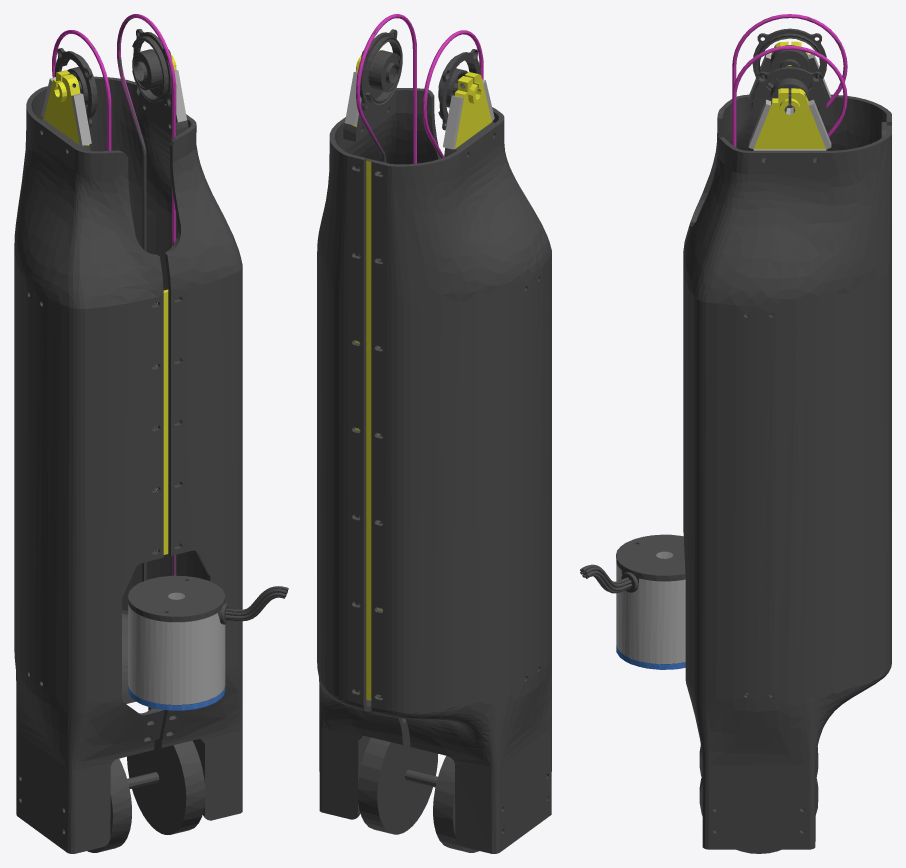
File: color_thigh_L.dae
3 renders of one model, left to right at view 1: azimuth 30°, elevation 25°; view 2: azimuth 150°, elevation 25°; view 3: azimuth 270°, elevation 25°, orthographic. The views are drawn at different scales.
Parts seen in each view (by area): view 1: updated_thigh_L_dae; view 2: updated_thigh_L_dae; view 3: updated_thigh_L_dae.
Boxes of the visible parts, <box> form: updated_thigh_L_dae: <box>14,14,288,853</box>; updated_thigh_L_dae: <box>317,14,551,853</box>; updated_thigh_L_dae: <box>580,14,891,853</box>.
Size of the model in its own units: 129 by 183 by 519.
